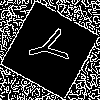Y: (25, 25, 78, 69)
